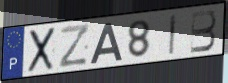8: (126, 19, 154, 59)
A: (88, 21, 124, 65)
B: (189, 8, 218, 55)
I: (167, 13, 178, 56)
X: (26, 25, 58, 75)
Z: (58, 22, 91, 70)
